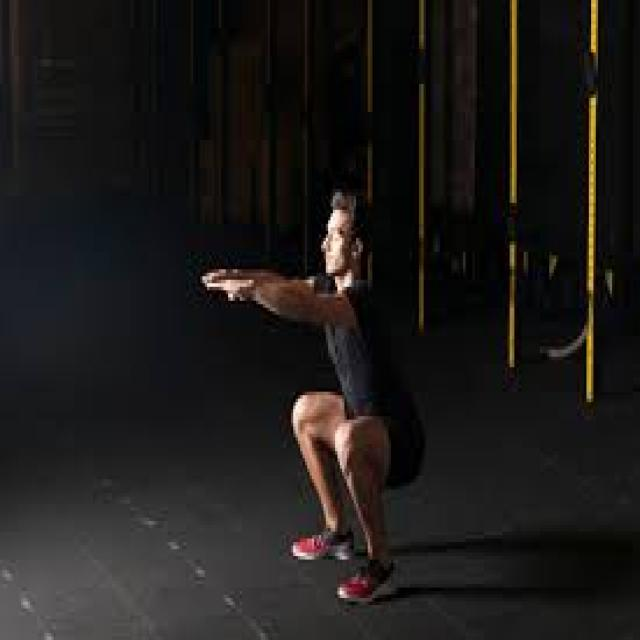squat: (197, 187, 430, 614)
